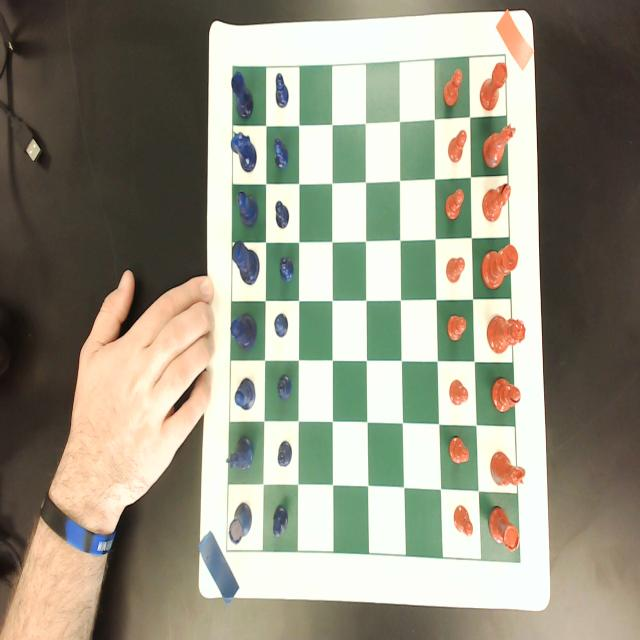B: (237, 190, 258, 228), (234, 377, 256, 410)
K: (232, 240, 260, 286)
N: (230, 130, 257, 174), (225, 434, 254, 472)
P: (272, 136, 290, 171), (275, 72, 289, 110), (273, 506, 289, 538), (277, 440, 293, 470), (275, 200, 290, 229), (279, 255, 294, 283), (274, 312, 289, 338), (278, 373, 292, 400)
Q: (230, 313, 257, 352)
R: (230, 70, 254, 119), (228, 500, 252, 547)
b: (490, 376, 520, 418), (482, 182, 511, 222)
k: (481, 243, 518, 293)
n: (482, 122, 517, 170), (489, 450, 526, 490)
p: (442, 68, 462, 108), (448, 435, 470, 466), (445, 187, 465, 221), (453, 504, 473, 538), (448, 128, 467, 163), (446, 314, 466, 344), (446, 256, 465, 284), (449, 378, 468, 406)
q: (486, 314, 526, 355)
r: (488, 506, 520, 552), (479, 61, 508, 110)
